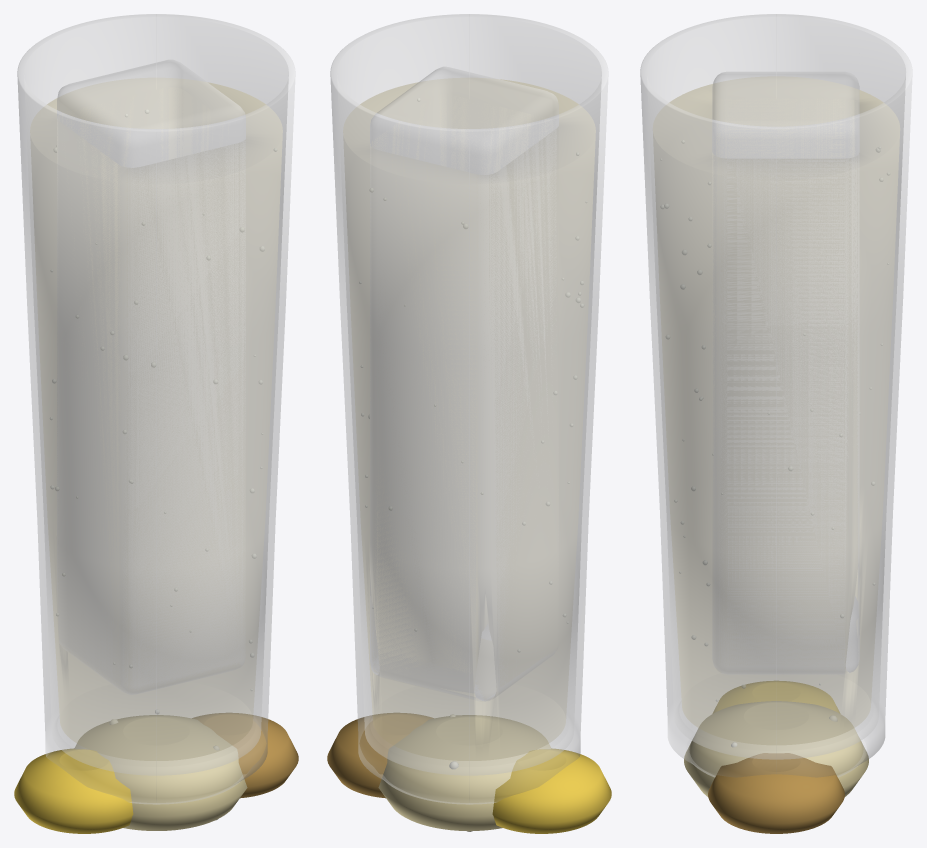
The model's file is moga-salted-yuzu-highball.glb.
The picture shows the model from 3 angles, left to right: view 1: azimuth 30°, elevation 25°; view 2: azimuth 150°, elevation 25°; view 3: azimuth 270°, elevation 25°; orthographic projection. The views are drawn at different scales.
Parts seen in each view (by area): view 1: glass, liquid, ice, recipe_fizz, recipe_yuzu_seasoning, recipe_buckwheat_syrup, serving_fine_bubbles; view 2: glass, liquid, ice, recipe_fizz, recipe_yuzu_seasoning, recipe_buckwheat_syrup; view 3: glass, liquid, ice, recipe_fizz, recipe_buckwheat_syrup, recipe_yuzu_seasoning.
Part boxes in pixels (bbox=[...]): glass: bbox=[17, 14, 295, 804]; liquid: bbox=[30, 78, 282, 760]; ice: bbox=[57, 60, 245, 167]; recipe_fizz: bbox=[74, 715, 247, 830]; recipe_yuzu_seasoning: bbox=[14, 748, 133, 833]; recipe_buckwheat_syrup: bbox=[192, 713, 298, 798]; serving_fine_bubbles: bbox=[50, 109, 276, 713]; glass: bbox=[330, 14, 608, 804]; liquid: bbox=[343, 78, 595, 760]; ice: bbox=[370, 67, 558, 700]; recipe_fizz: bbox=[378, 715, 551, 830]; recipe_yuzu_seasoning: bbox=[492, 748, 611, 833]; recipe_buckwheat_syrup: bbox=[327, 713, 433, 798]; glass: bbox=[640, 14, 912, 777]; liquid: bbox=[653, 76, 899, 744]; ice: bbox=[712, 72, 859, 672]; recipe_fizz: bbox=[684, 701, 868, 796]; recipe_buckwheat_syrup: bbox=[708, 753, 844, 833]; recipe_yuzu_seasoning: bbox=[713, 681, 839, 713].
Bounding box in the file's own units: 1.1 × 2.92 × 1.
